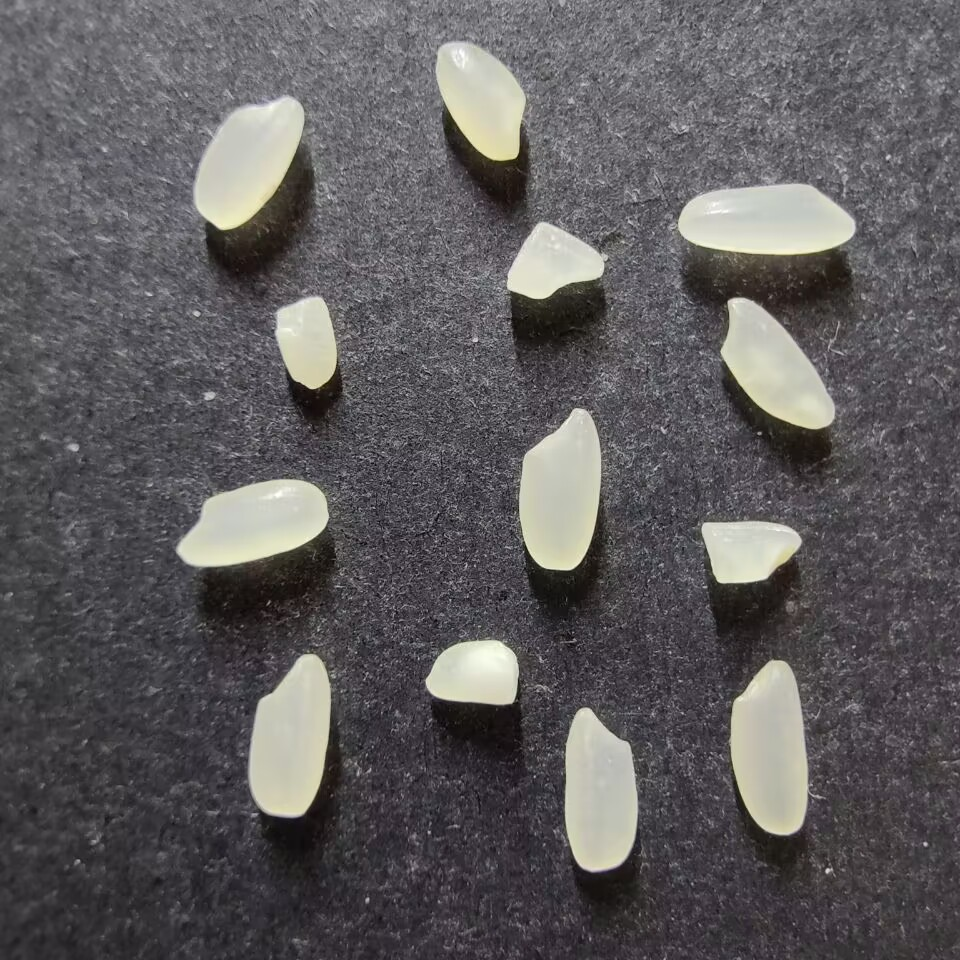broken: (504, 220, 604, 299), (700, 520, 801, 584), (423, 639, 519, 705), (274, 295, 337, 389)
rice: (719, 297, 836, 430), (193, 95, 304, 230), (729, 659, 809, 836), (247, 653, 330, 818), (176, 478, 329, 567), (518, 407, 601, 570), (676, 183, 857, 255), (562, 707, 638, 872), (433, 41, 526, 161)
